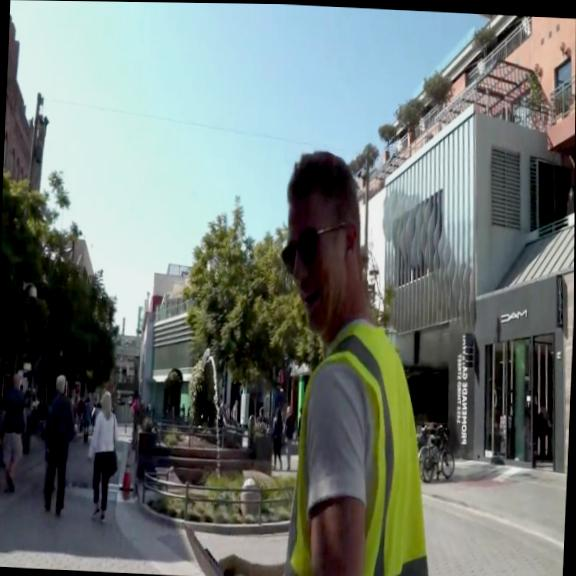safety_vest: (283, 320, 442, 576)
